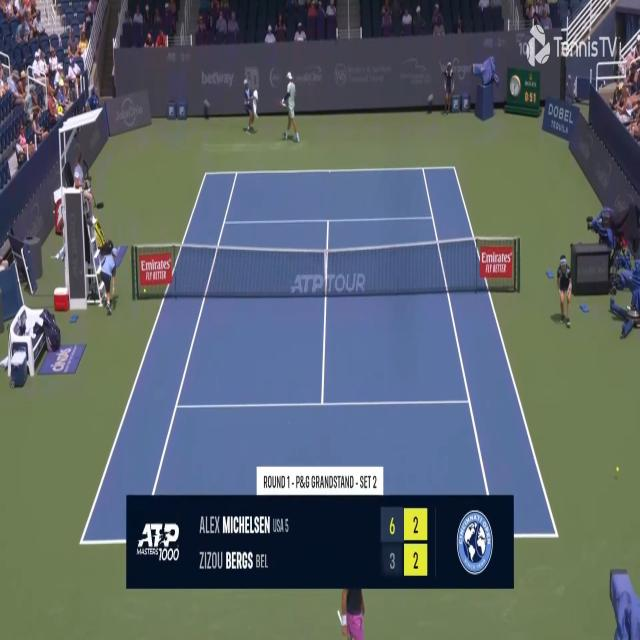tennis-player: (335, 586, 370, 640), (279, 70, 300, 143)
